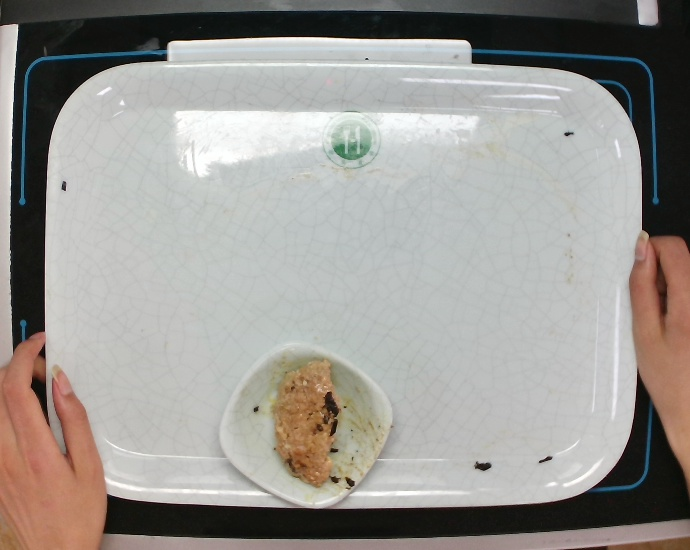JYsf-Si_Fang_Die: (213, 334, 398, 515)
